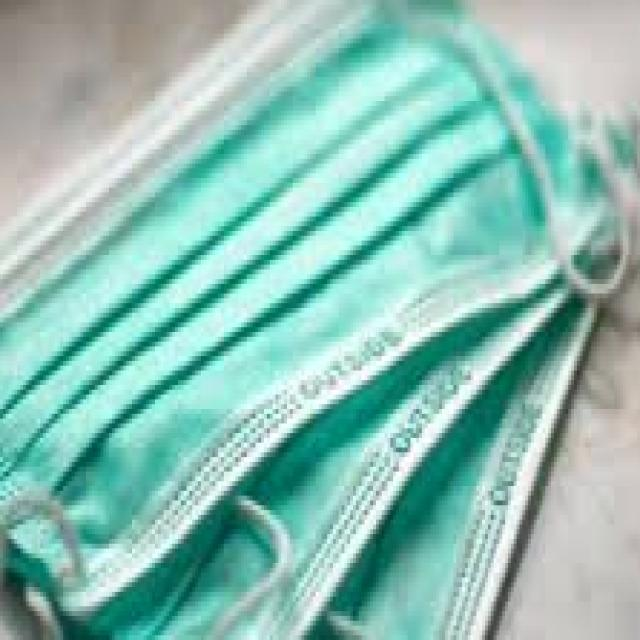organic: (19, 70, 576, 589)
